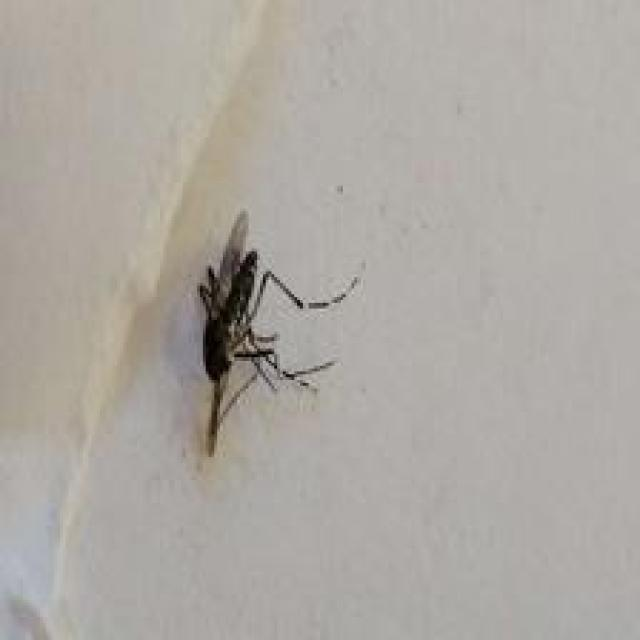Aedes albopictus: (194, 209, 363, 457)
